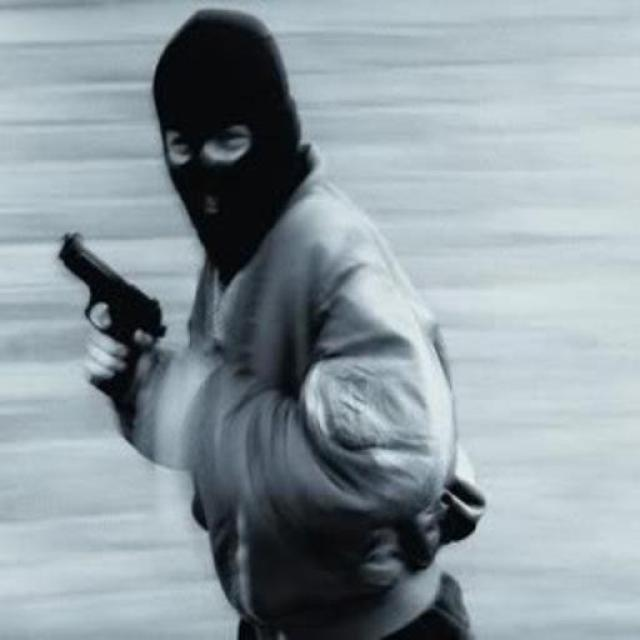pistol: (57, 225, 161, 409)
